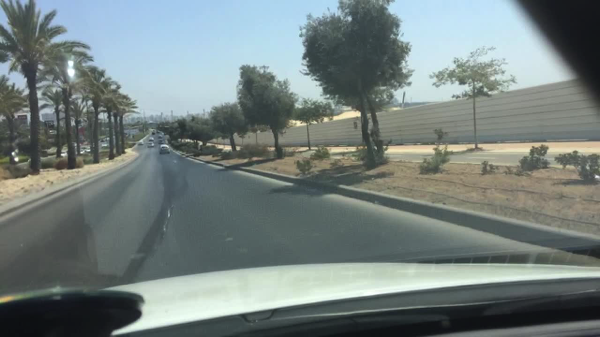car: (159, 146, 171, 153), (58, 150, 68, 158), (84, 147, 92, 153), (77, 150, 85, 155), (156, 133, 164, 138), (100, 138, 106, 144), (138, 140, 144, 146), (102, 143, 109, 148), (147, 143, 154, 148), (104, 138, 110, 143), (151, 130, 156, 136), (159, 137, 164, 143), (149, 137, 154, 142), (159, 131, 165, 135)
